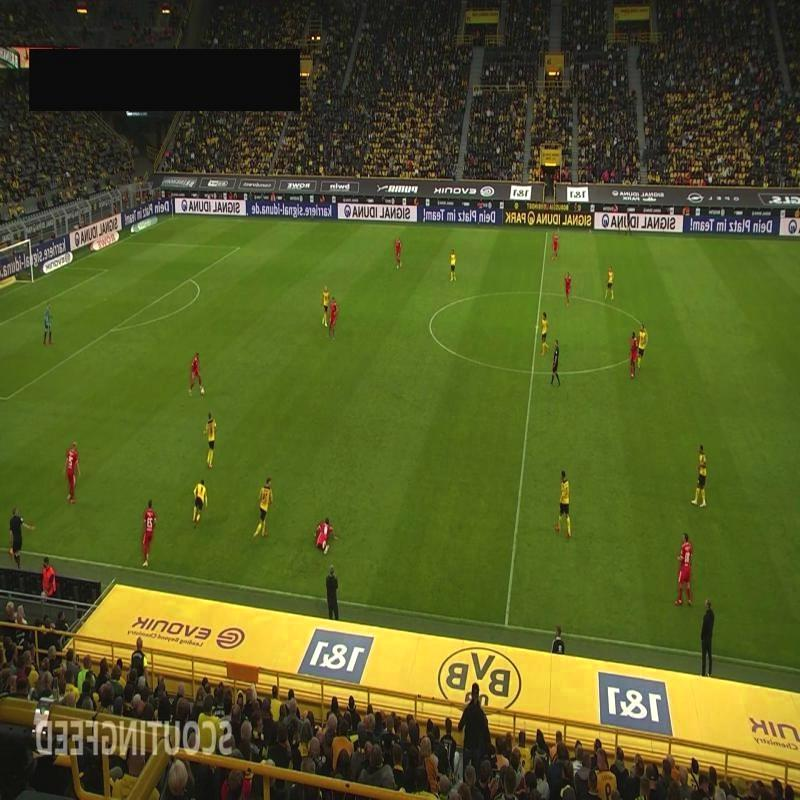1: (166, 212, 181, 226)
10: (184, 272, 198, 286)
11: (105, 323, 119, 337)
12: (0, 393, 13, 405)
13: (540, 223, 554, 237)
14: (532, 284, 548, 300)
15: (524, 364, 542, 380)
16: (495, 616, 516, 636)
2: (112, 236, 127, 250)
3: (58, 260, 73, 274)
7: (100, 262, 114, 276)
9: (234, 241, 247, 254)
c: (639, 328, 655, 348), (422, 312, 438, 332)
